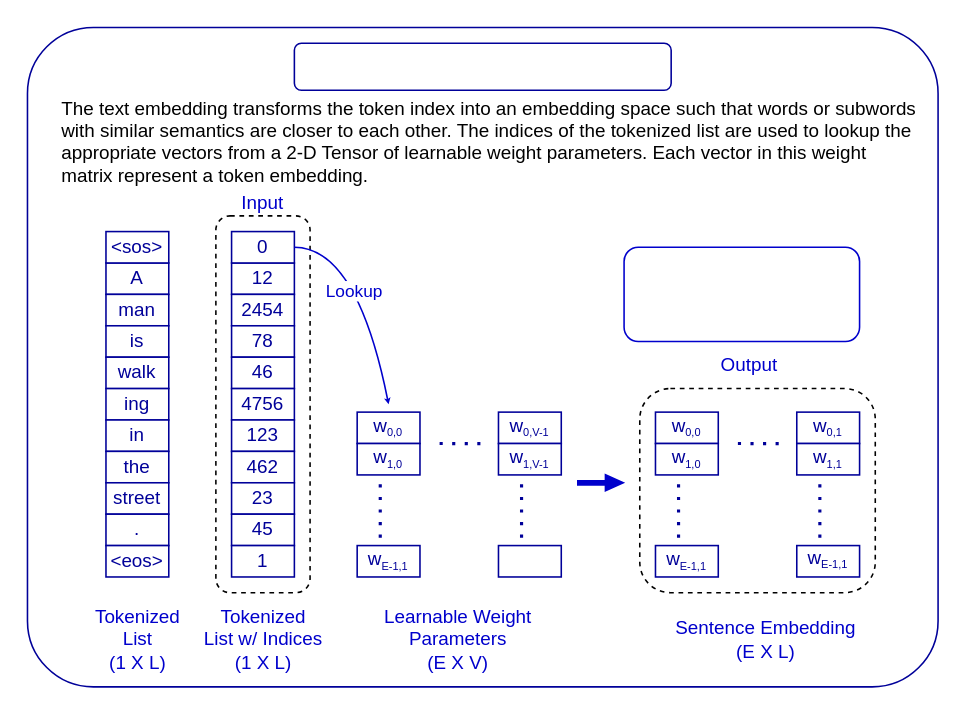
The diagram is 966 pixels wide and 714 high, and some of its shapes have lost their labels. Here are the shapes that lost their labels. From the top down, the centre of each, then its label:
At (482,66): "Text Embedding".
At (741,293): "L: Sentence Length E: Embedding Dimension V: Vocabulary Size".
At (529,560): "w E-1,V-1".
